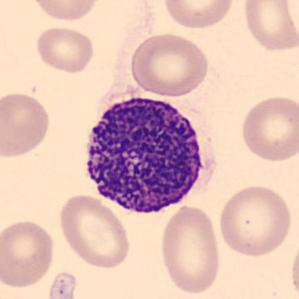Basophil: (75, 84, 220, 223)
RBC: (158, 202, 223, 296), (216, 182, 294, 259), (56, 192, 133, 270), (128, 30, 211, 98), (238, 93, 298, 164), (0, 217, 57, 291), (0, 89, 52, 159), (33, 24, 96, 75), (240, 0, 299, 54), (160, 0, 236, 30), (28, 0, 104, 23), (288, 234, 298, 299)
